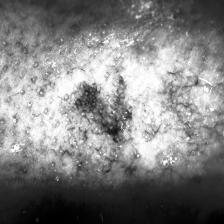Benign Marking or Mole: (71, 68, 135, 143)
